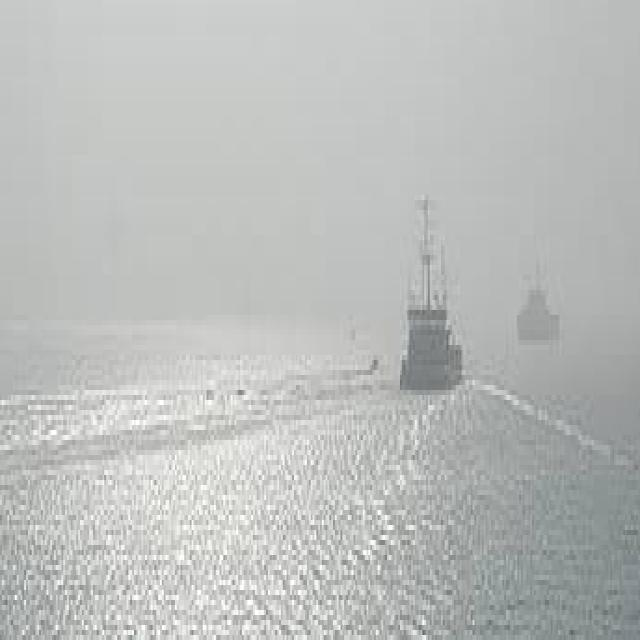fishing boat: (384, 197, 462, 417), (510, 228, 568, 359)
